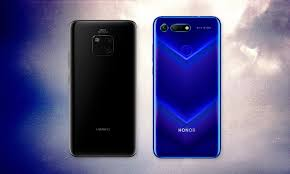huawei: (66, 16, 136, 160)
